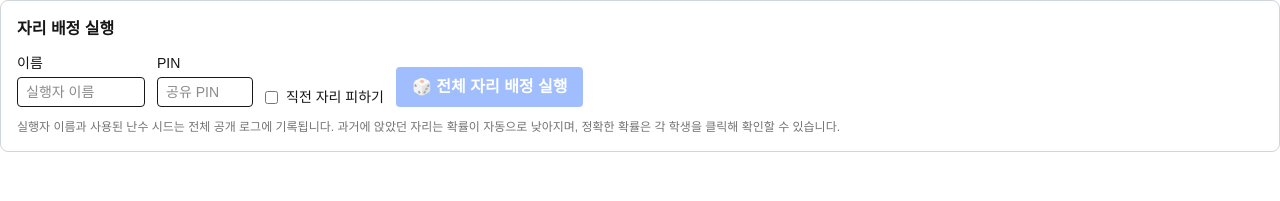
ShuffleControls › 401 → PIN 오류 메시지
Type "김철수" into the field labelled "이름" at (81, 92), box [17,77,145,107]
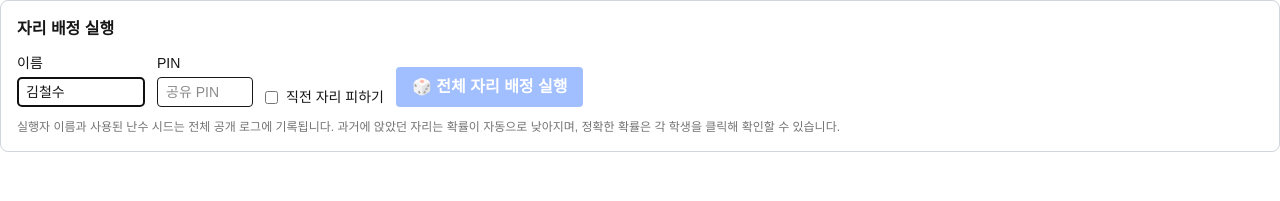
Type "9999" into the password field labelled "PIN" at (205, 92), box [157,77,253,107]
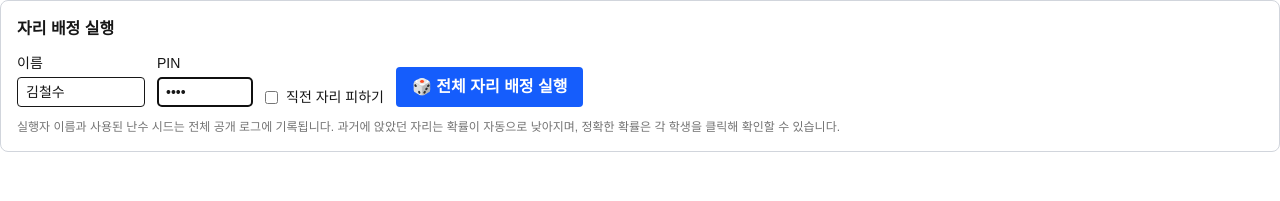
Click the button "🎲 전체 자리 배정 실행" at (490, 87), box [396,67,584,107]
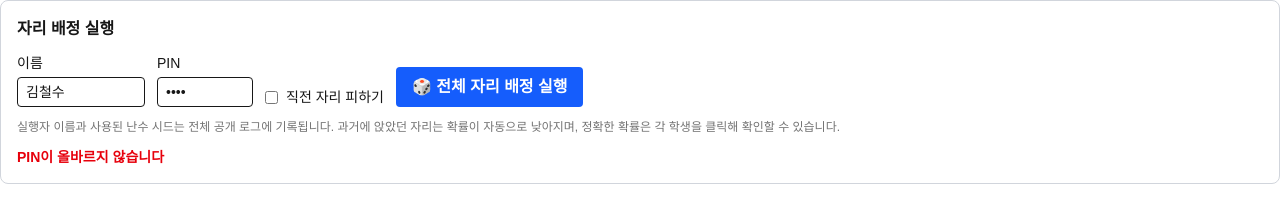
Expected: the text "PIN이 올바르지 않습니다" is shown, [17,149,164,165]
